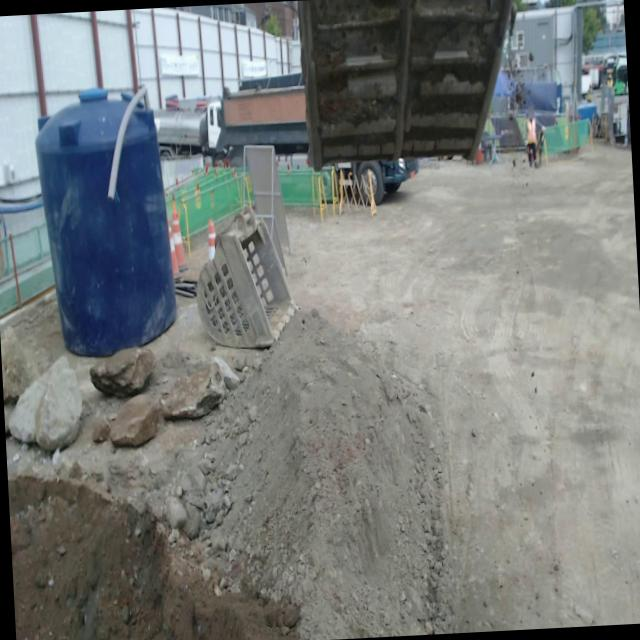red-sand: (8, 476, 299, 640)
stone: (90, 348, 163, 447), (10, 356, 82, 450), (162, 363, 224, 419), (0, 327, 34, 404)
white-sand: (57, 149, 640, 640)
